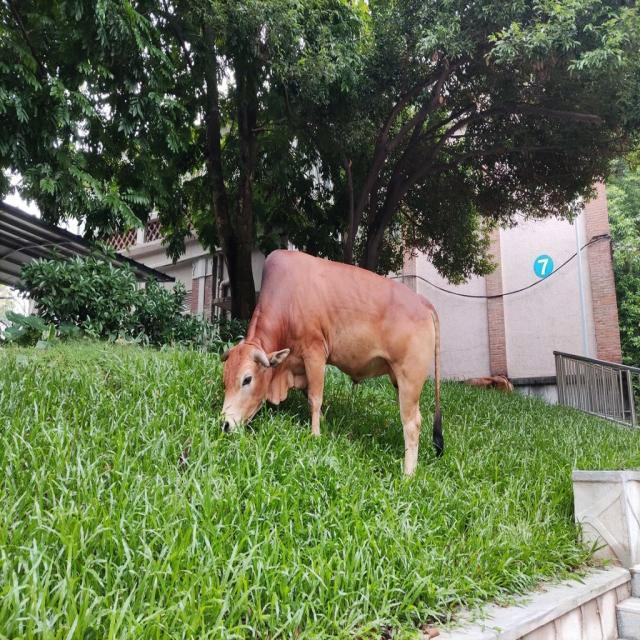cow: (221, 251, 444, 474)
